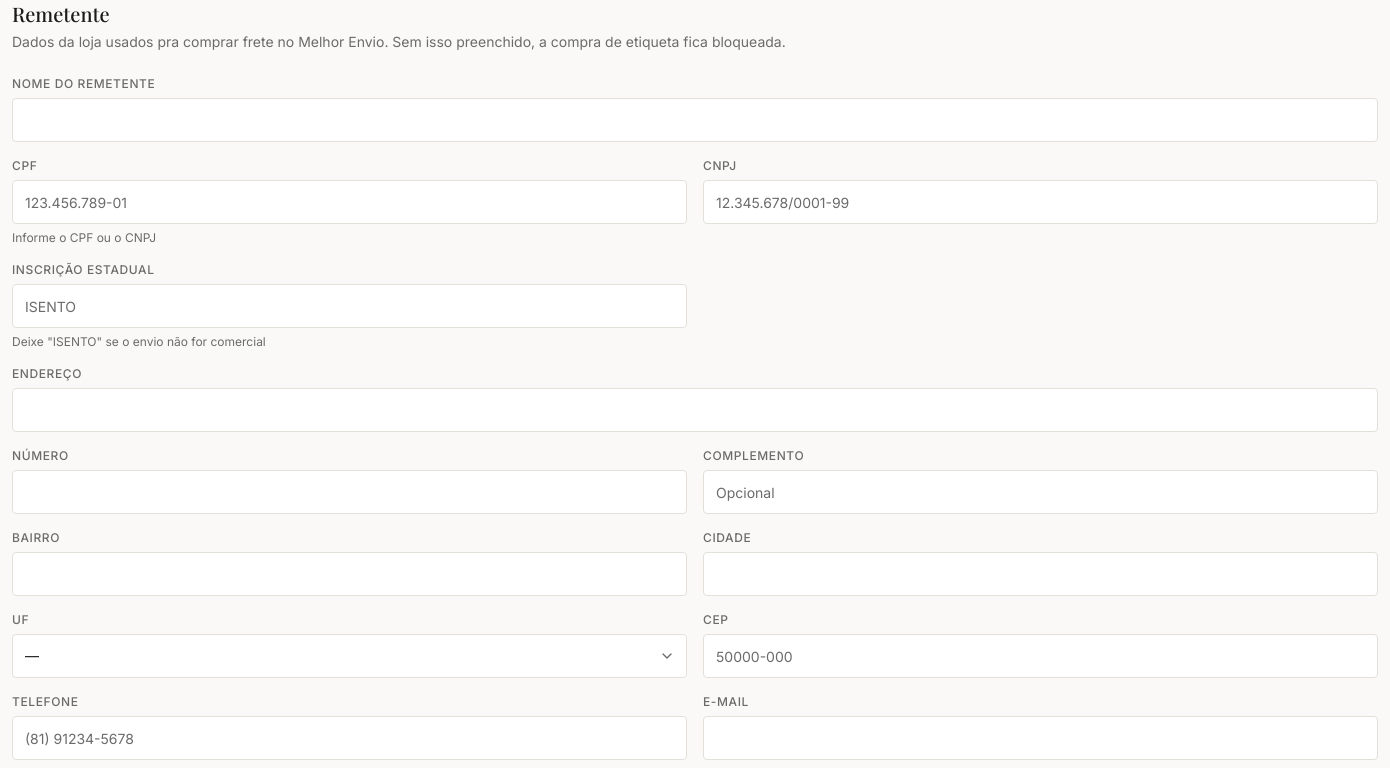
it: AdminConfigRemetente › bloqueia salvar sem CPF nem CNPJ preenchidos
Type "Duas Marias" into the field labelled "Nome do remetente" at [695, 120], box [12,98,1378,142]
Type "Rua da Loja" into the field labelled "Endereço" at [695, 410], box [12,388,1378,432]
Type "50" into the field labelled "Número" at [350, 492], box [12,470,687,514]
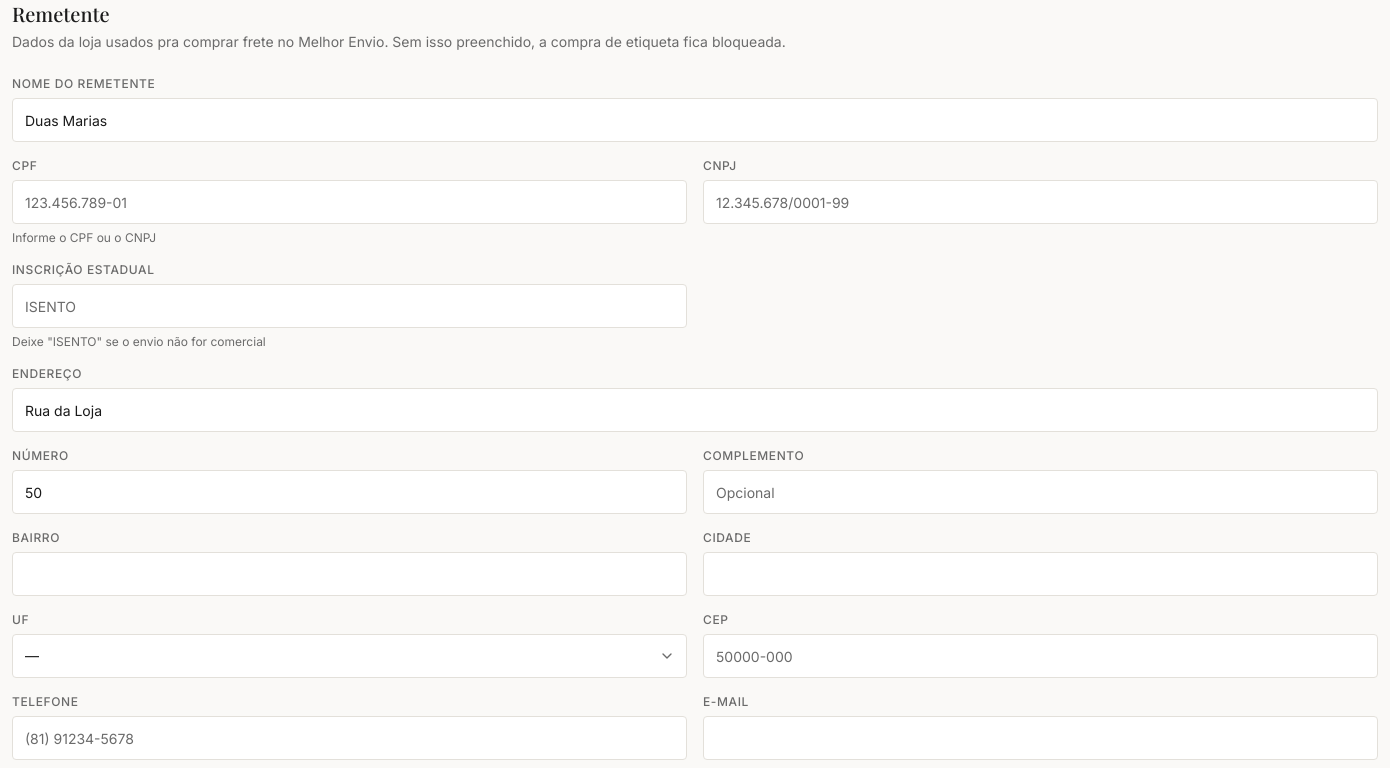
Type "Centro" into the field labelled "Bairro" at [350, 574], box [12,552,687,596]
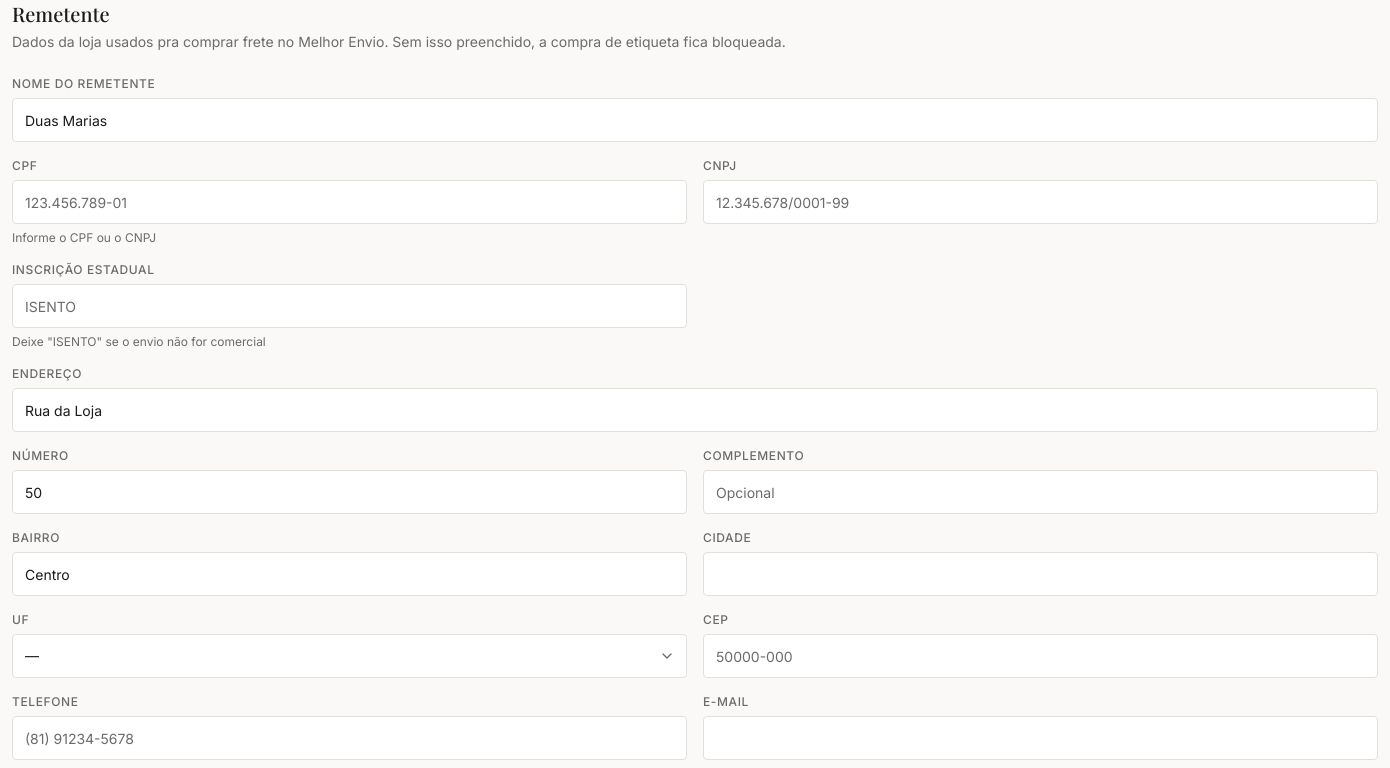
Type "Planaltina" into the field labelled "Cidade" at [1040, 574], box [703,552,1378,596]
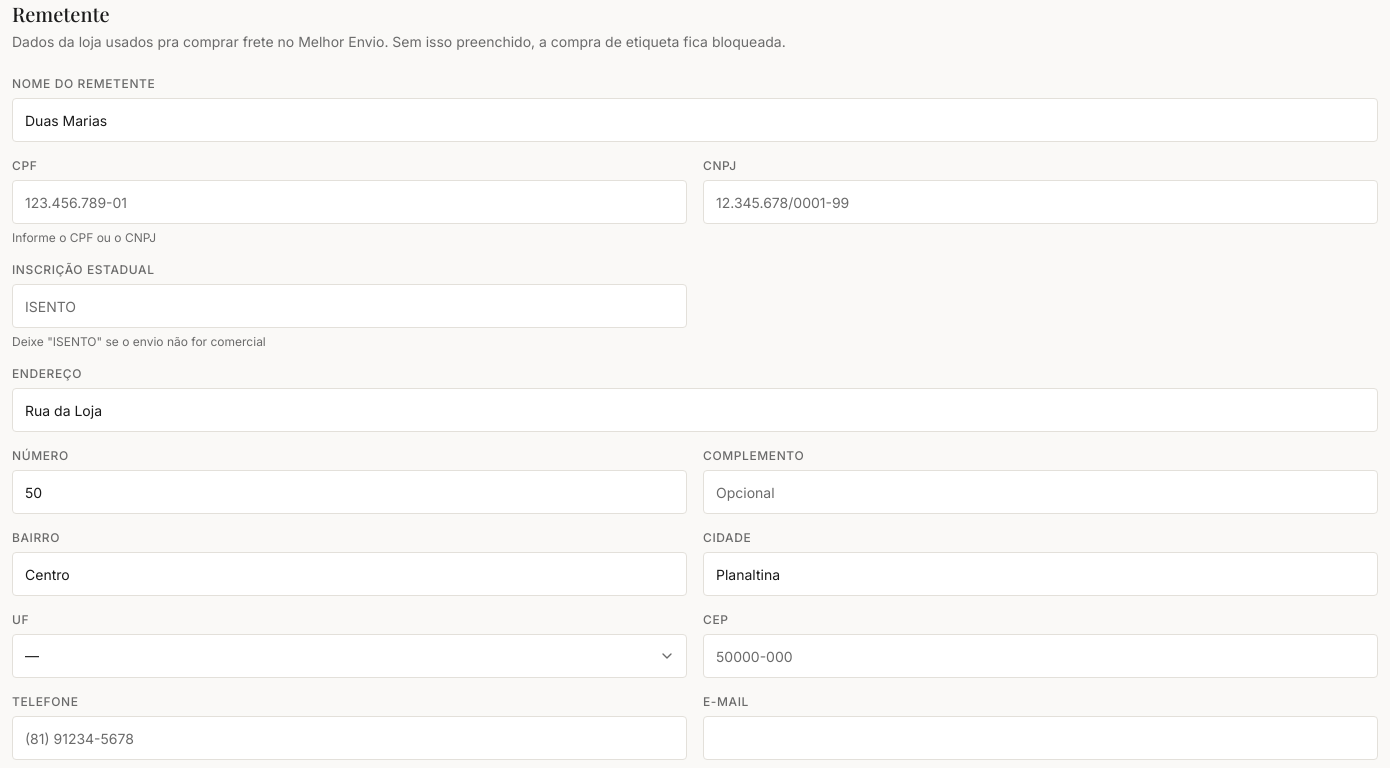
Select "GO" in the dropdown labelled "UF" at [350, 656], box [12,634,687,678]
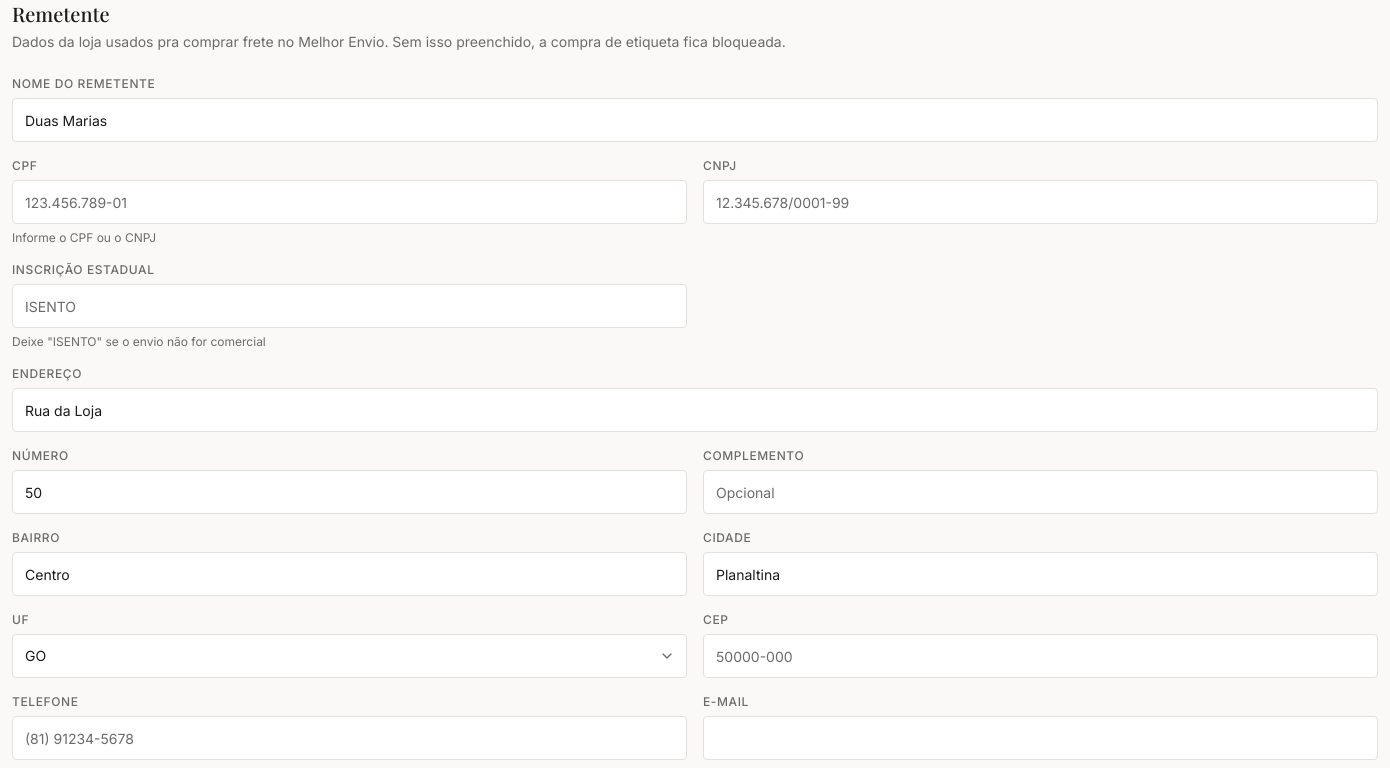
Type "73752018" into the field labelled "CEP" at [1040, 656], box [703,634,1378,678]
(page scrolled)
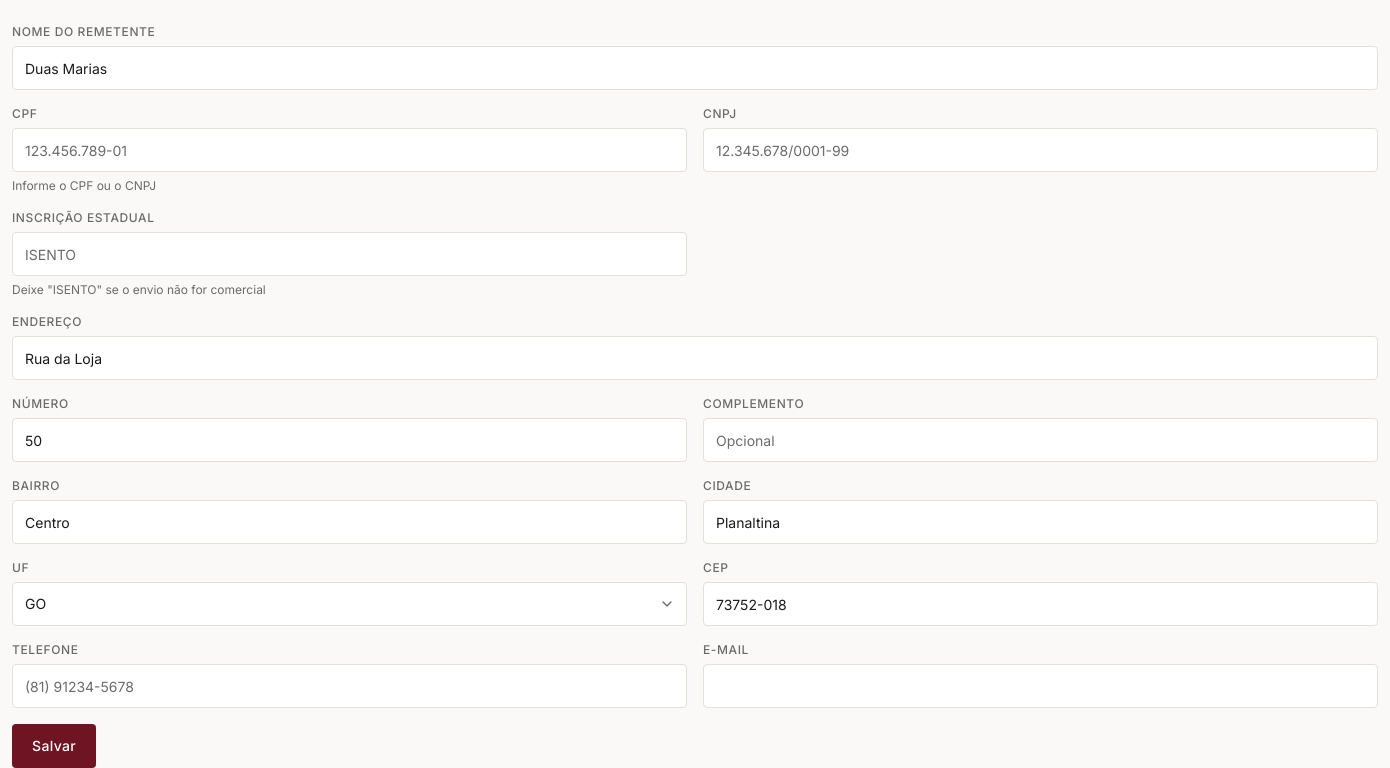
Click the button "Salvar" at [54, 746], box [12,724,96,767]
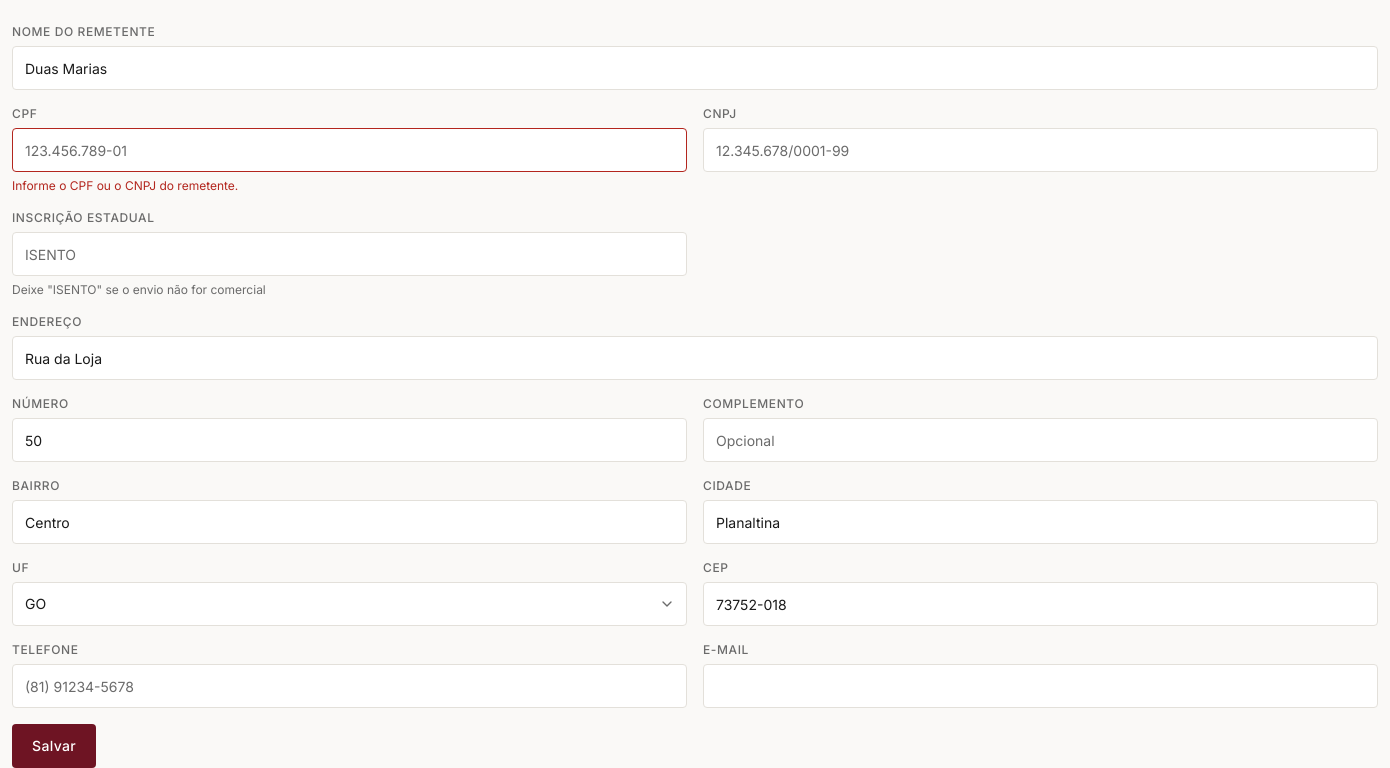
Check: the text "Informe o CPF ou o CNPJ do remetente." is shown, box [12,178,238,193]
